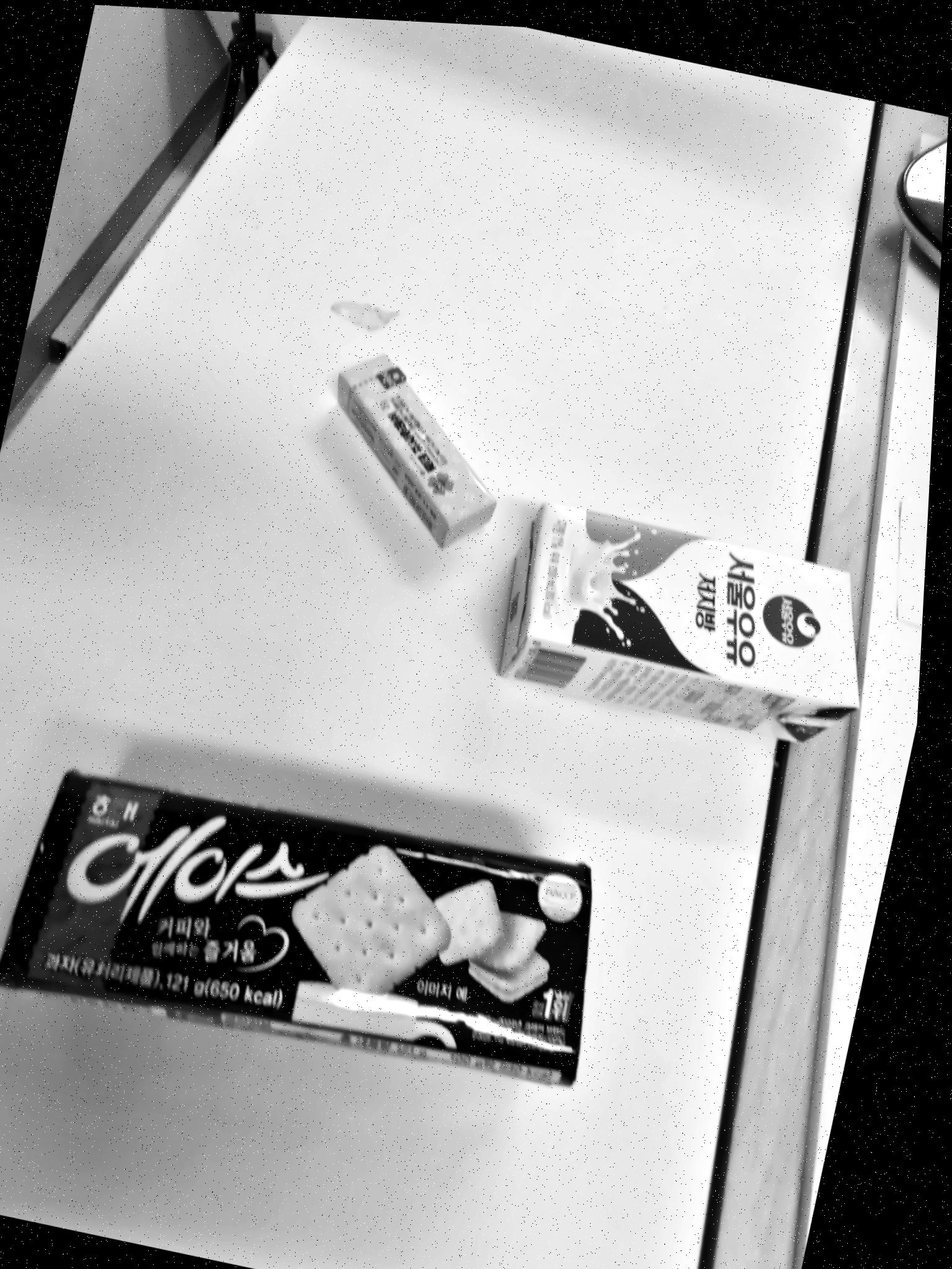cracker_ace: (0, 771, 591, 1085)
gum_yellow: (337, 354, 496, 547)
milk_blue: (499, 504, 859, 742)
